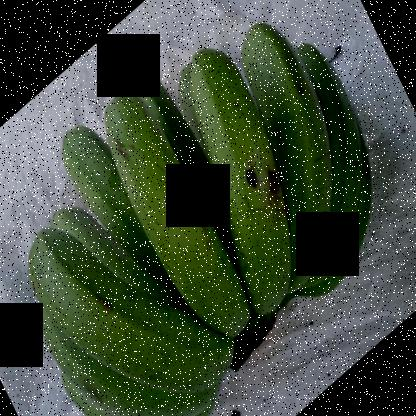freshunripe: (97, 85, 247, 363), (21, 224, 241, 406)
unripe: (183, 40, 301, 338)
